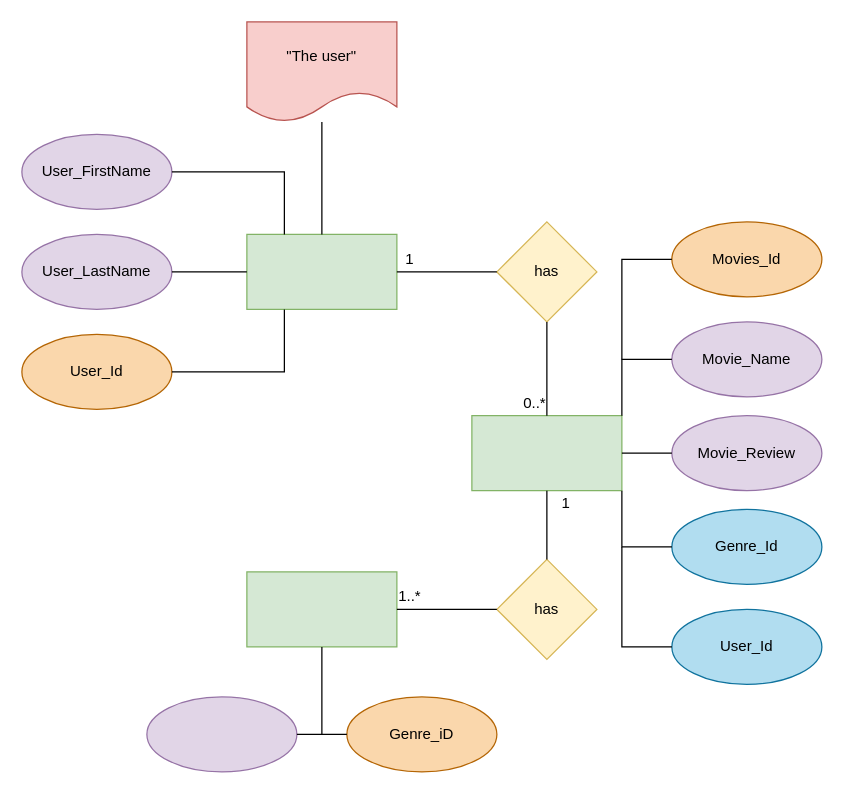
The diagram is 844 pixels wide and 794 high, and some of its shapes have lost their labels. The centre of each missing label's shape, as x and y in pixels:
Genre: the point at 321,609
Genre_Name: the point at 221,734
Movies: the point at 546,452
User: the point at 321,271
